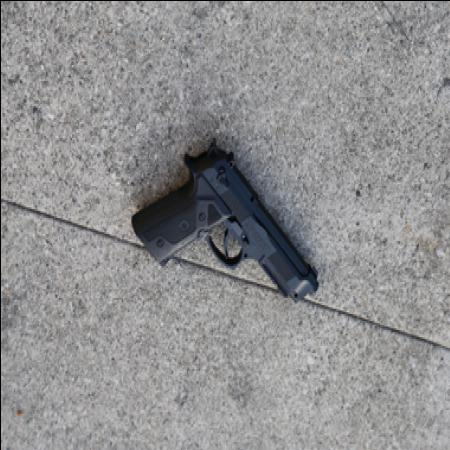Pistol: (130, 142, 320, 306)
